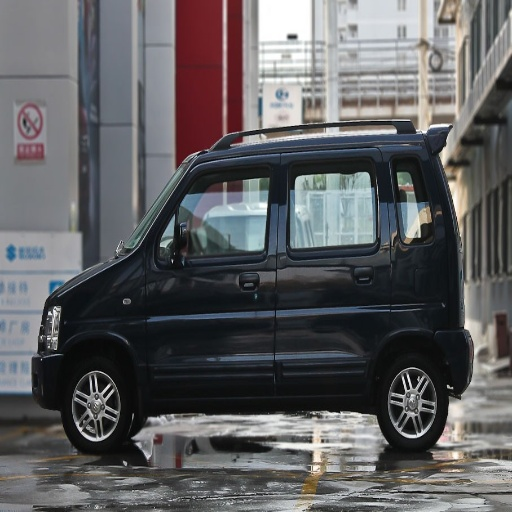front_left_door: (147, 152, 280, 394)
trunk: (351, 191, 438, 291), (290, 308, 325, 368), (381, 302, 438, 333)
